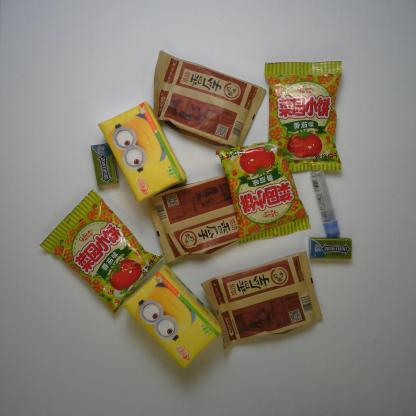Dried Food: (196, 248, 326, 351), (143, 46, 268, 150), (140, 173, 264, 265)
Gum: (305, 234, 359, 263), (88, 144, 122, 188)
Puffed Food: (37, 187, 163, 309), (262, 62, 350, 173), (219, 139, 309, 246)
Stationery: (305, 164, 346, 240)
Tissue: (120, 262, 228, 372), (97, 102, 186, 206)
